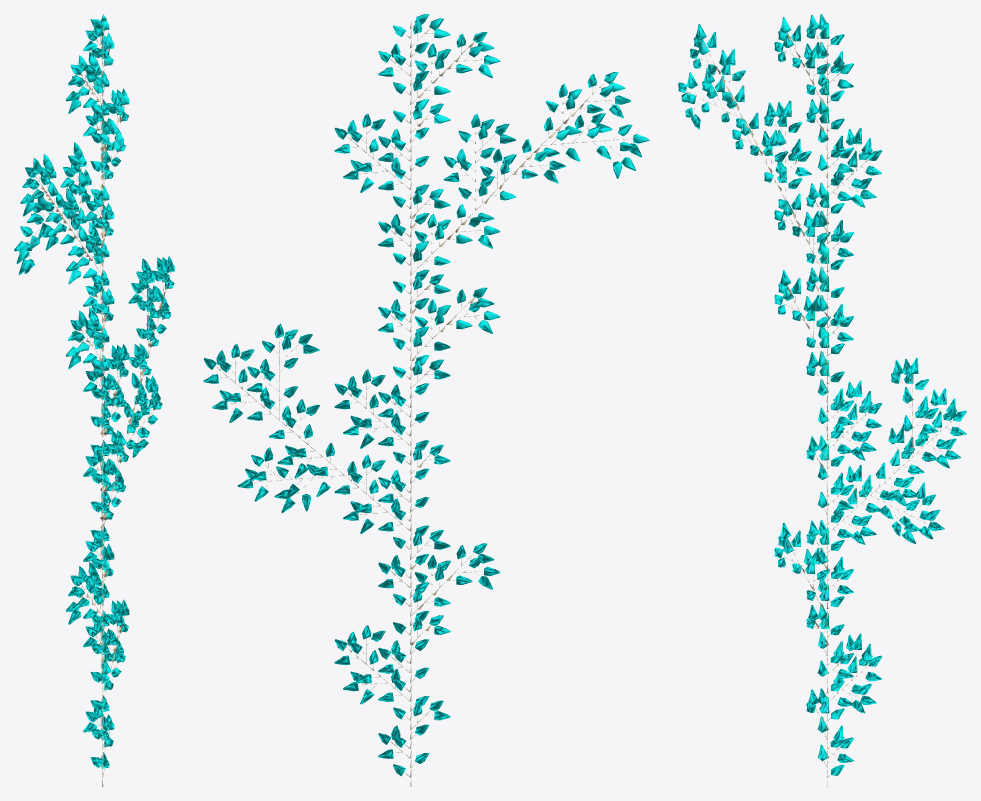
Rendered from blueTree_v3.glb.
The picture shows the model from 3 angles, left to right: view 1: azimuth 30°, elevation 25°; view 2: azimuth 150°, elevation 25°; view 3: azimuth 270°, elevation 25°; orthographic projection.
Parts seen in each view (by area): view 1: LeaveOptimal, BranchOptimal; view 2: LeaveOptimal, BranchOptimal; view 3: LeaveOptimal, BranchOptimal.
Part boxes in pixels (x1,y1,x2,y2): LeaveOptimal: (14, 14, 174, 768); BranchOptimal: (27, 22, 170, 786); LeaveOptimal: (203, 14, 649, 776); BranchOptimal: (215, 21, 632, 786); LeaveOptimal: (678, 14, 966, 775); BranchOptimal: (688, 29, 952, 786).
Bounding box in the file's own units: 2.2 × 5.4 × 1.84.
